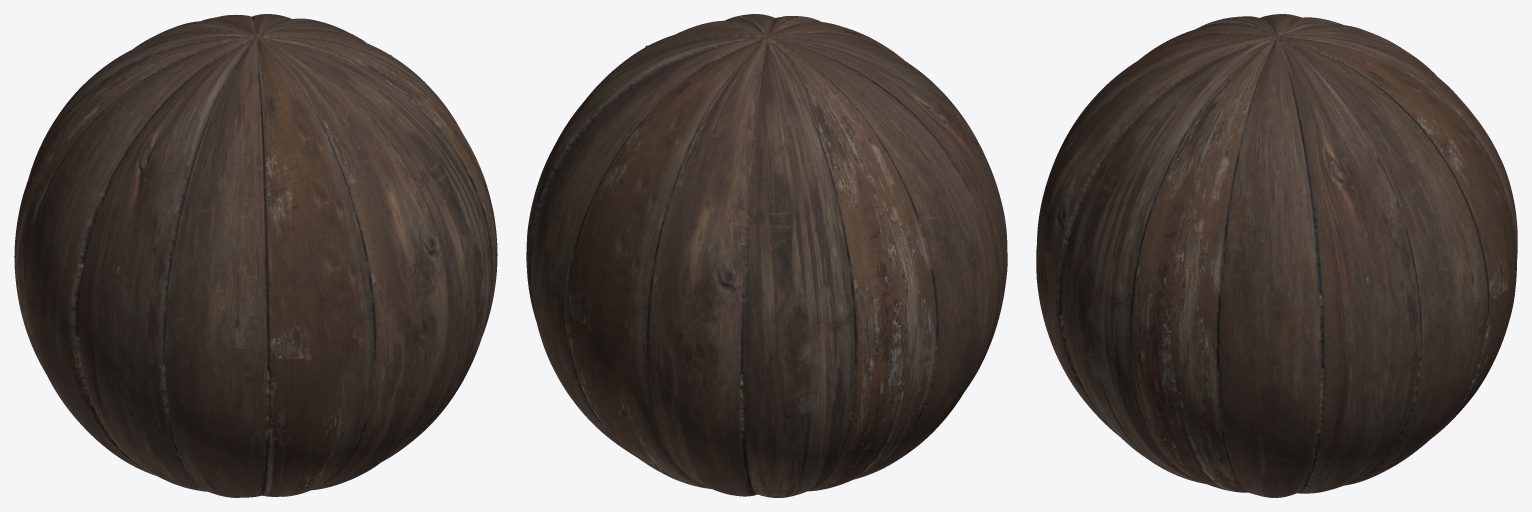
Rendered from wood_trunk_wall_1k.gltf.
3 renders of one model, left to right at view 1: azimuth 30°, elevation 25°; view 2: azimuth 150°, elevation 25°; view 3: azimuth 270°, elevation 25°, orthographic.
Parts seen in each view (by area): view 1: sphere_gltf; view 2: sphere_gltf; view 3: sphere_gltf.
Part boxes in pixels (<box>): sphere_gltf: <box>14,14,497,497</box>; sphere_gltf: <box>526,14,1007,497</box>; sphere_gltf: <box>1036,14,1517,497</box>.
Bounding box in the file's own units: 1.27 × 1.27 × 1.26.
Materials: 1 (1 with a texture image).
